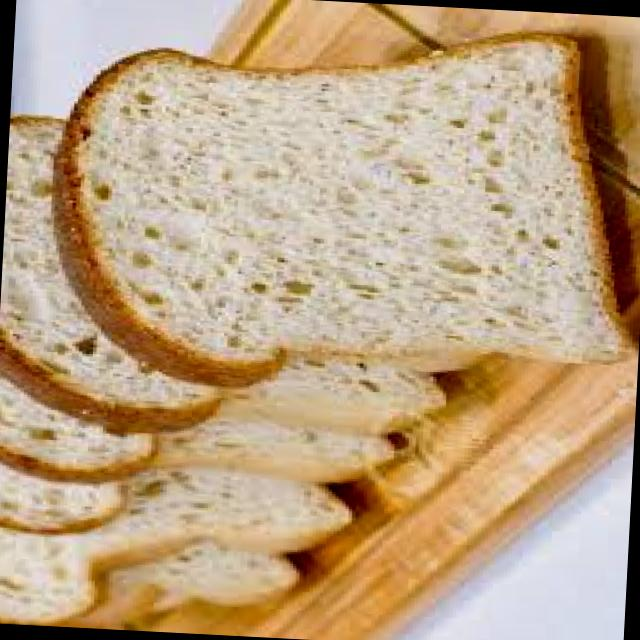organic: (4, 24, 504, 640)
